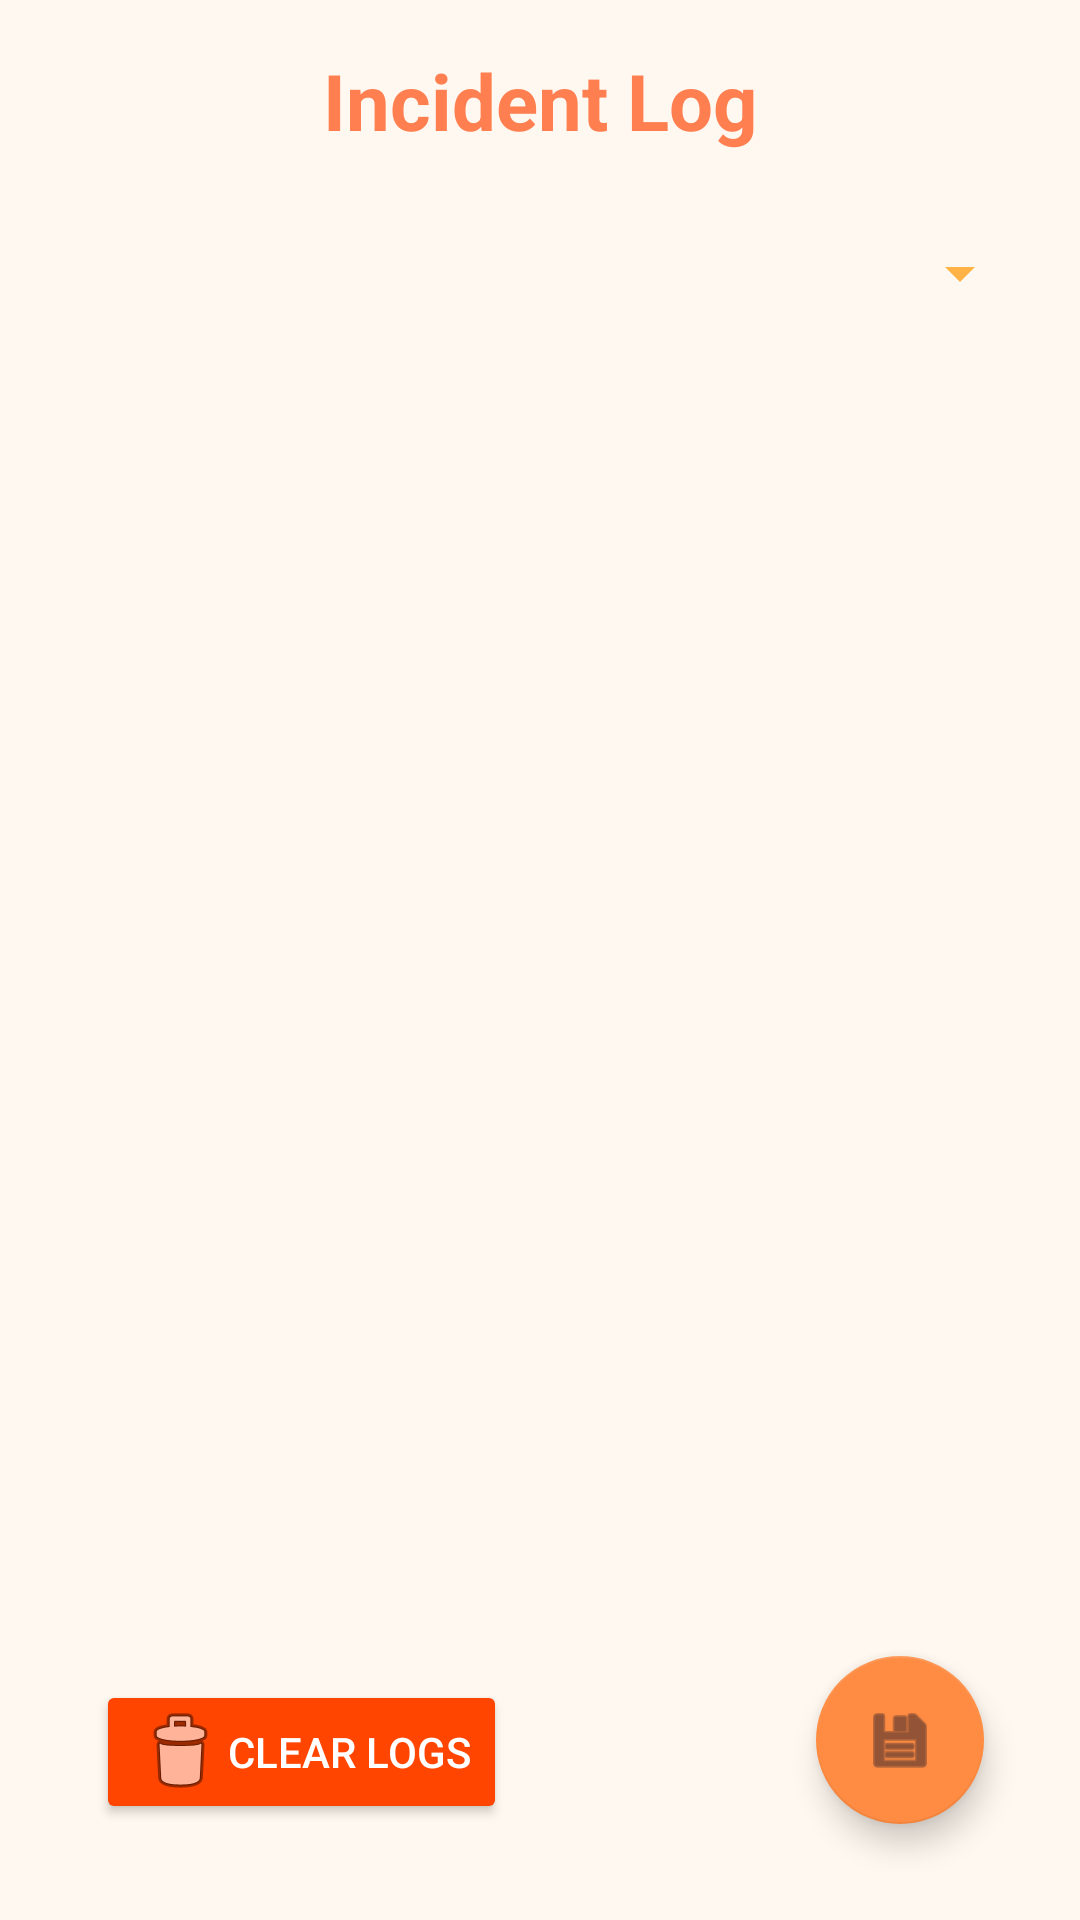

Named icons in this screenshot (1080x1920) and their centers, point (x, y):
Export Logs: point (900, 1740)
